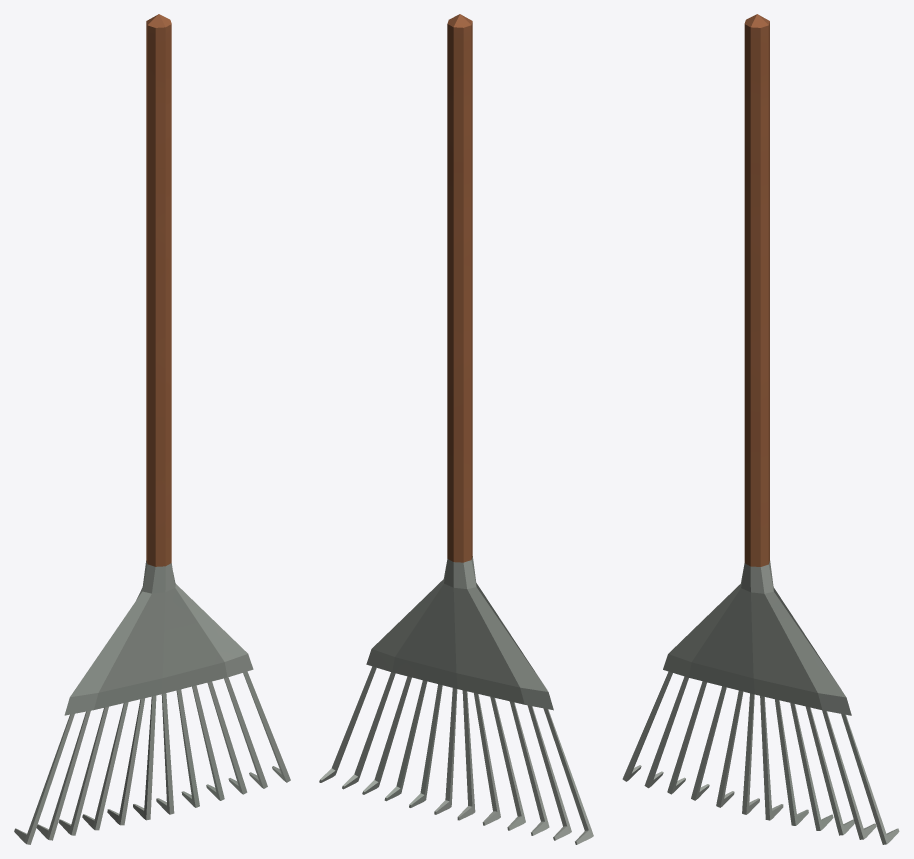
File: Rateau a feuille.fbx
3 views of the same model, side by side, from view 1: azimuth 30°, elevation 25°; view 2: azimuth 150°, elevation 25°; view 3: azimuth 330°, elevation 25° (orthographic).
Visible parts, largest first — view 1: Cylinder; view 2: Cylinder; view 3: Cylinder.
Part boxes in pixels (x1=…): Cylinder: x1=14, y1=14, x2=290, y2=844; Cylinder: x1=319, y1=14, x2=593, y2=844; Cylinder: x1=622, y1=14, x2=899, y2=844.
Size of the model in its own units: 15.95 by 46.24 by 2.08.
